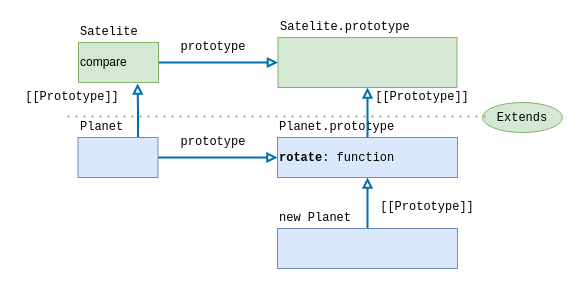
Some shapes in this 580 by 286 pixel diagram are drawn without their labels. The shapes that lost their labels are listed below. From the top down, each one's centre as x and y in pixels, then its label:
(367,62): constructor: Satelite beAttracted : function explode: function
(367,248): name : Venus
